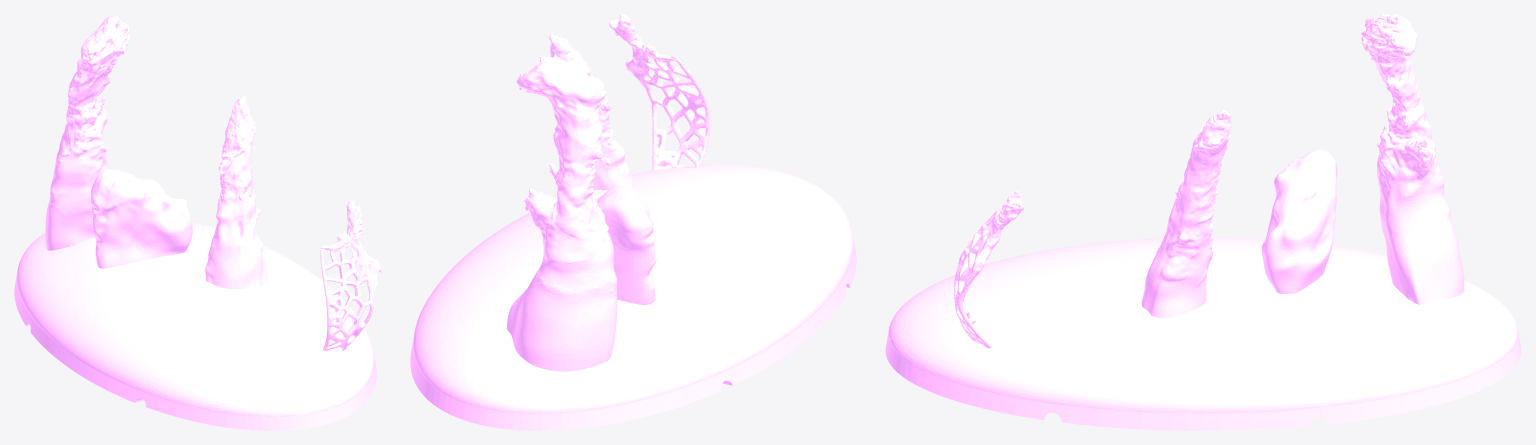
Rendered from neb-pillars.glb.
The picture shows the model from 3 angles, left to right: view 1: azimuth 30°, elevation 25°; view 2: azimuth 150°, elevation 25°; view 3: azimuth 270°, elevation 25°; orthographic projection. The views are drawn at different scales.
Visible parts, largest first — view 1: Pillars of Creation (full).stl; view 2: Pillars of Creation (full).stl; view 3: Pillars of Creation (full).stl.
Boxes of the visible parts, x1,y1,x2,y2 form: Pillars of Creation (full).stl: (14,14,381,430); Pillars of Creation (full).stl: (410,14,856,430); Pillars of Creation (full).stl: (885,14,1521,430).
Bounding box in the file's own units: 110 × 106 × 184.
